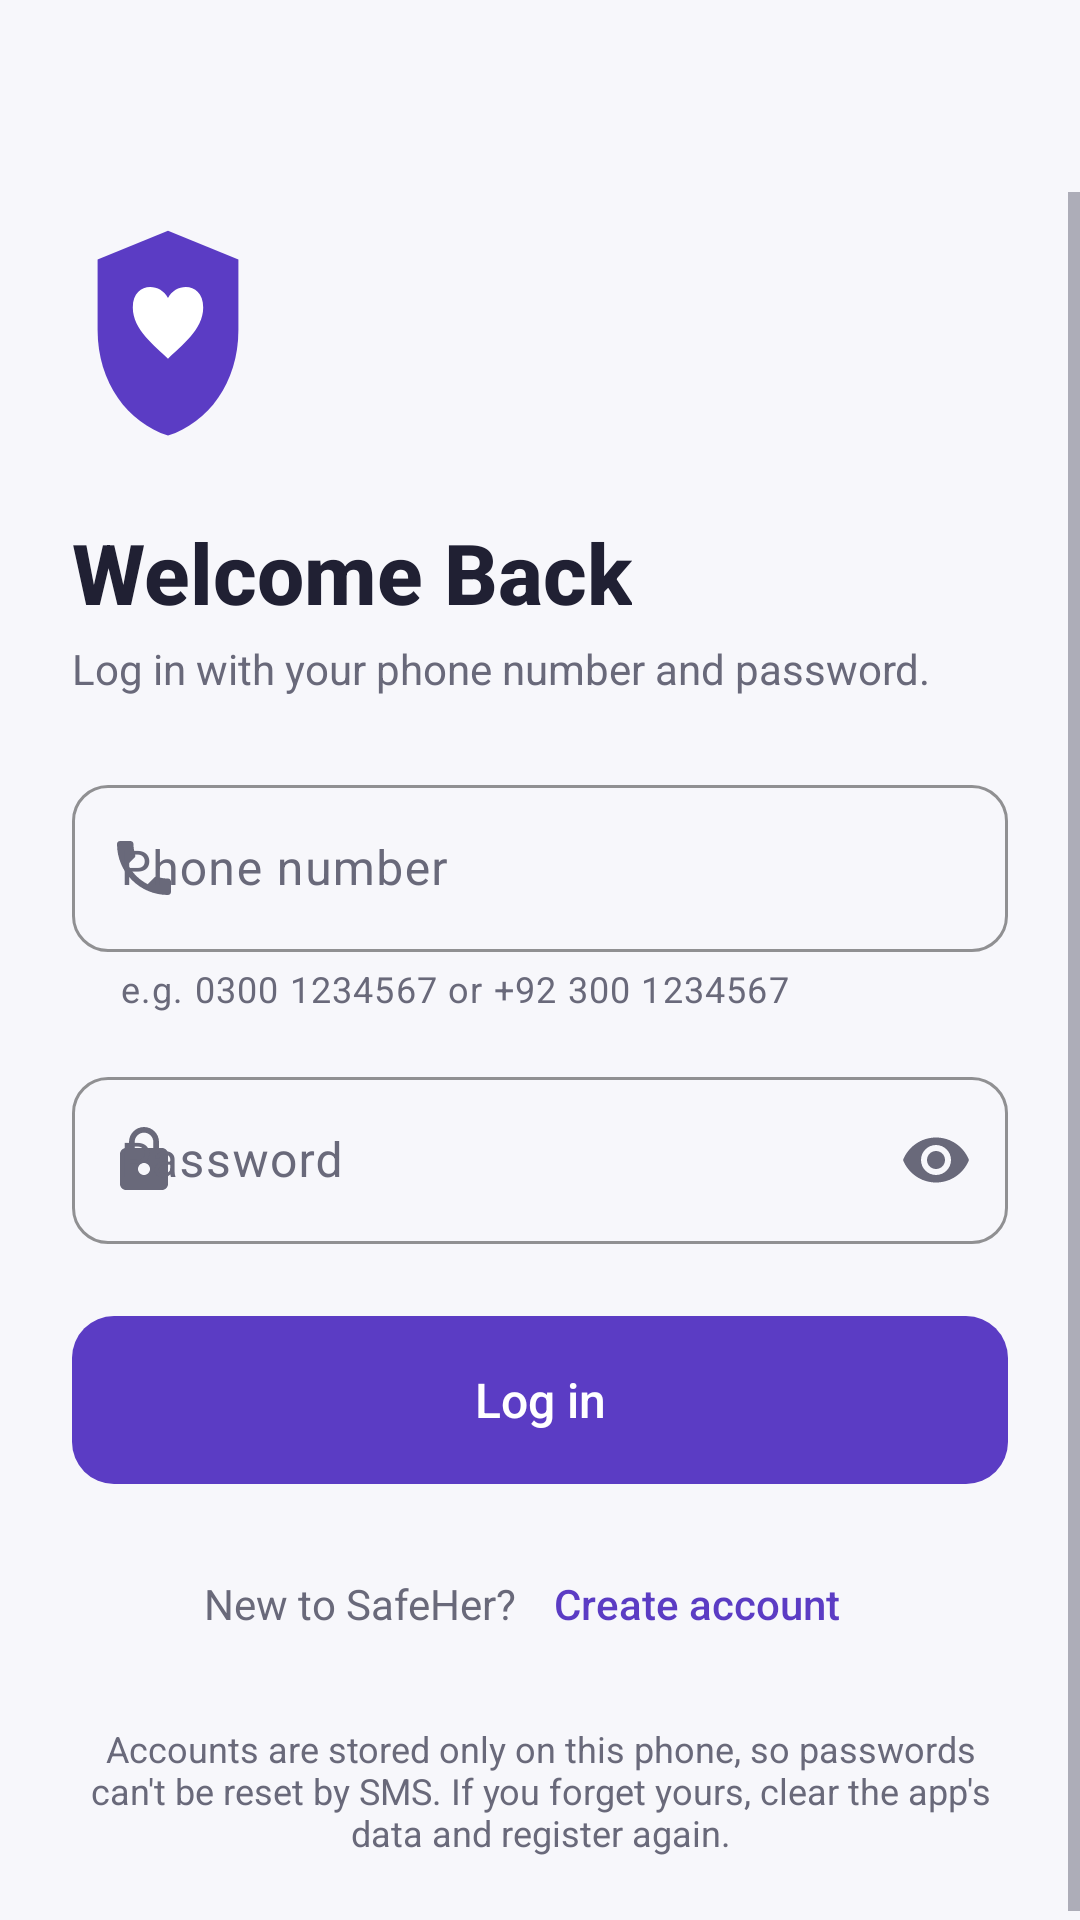

Icon bounding boxes for this 1080x1920 phone screenshot, format BBox(x1, y1, x2, y2):
shield: BBox(97, 231, 239, 436)
